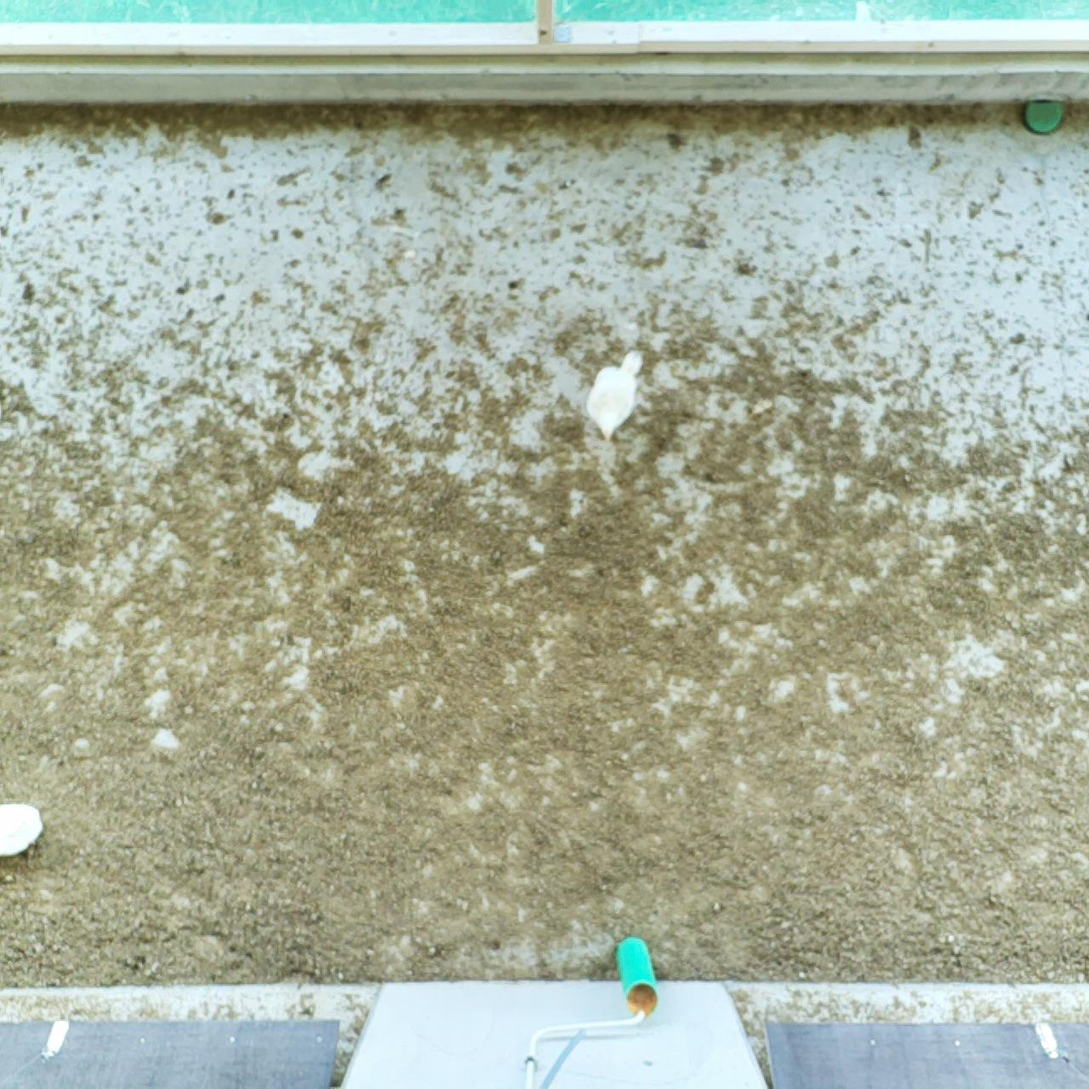chicken: (583, 345, 650, 447), (0, 801, 46, 862)
